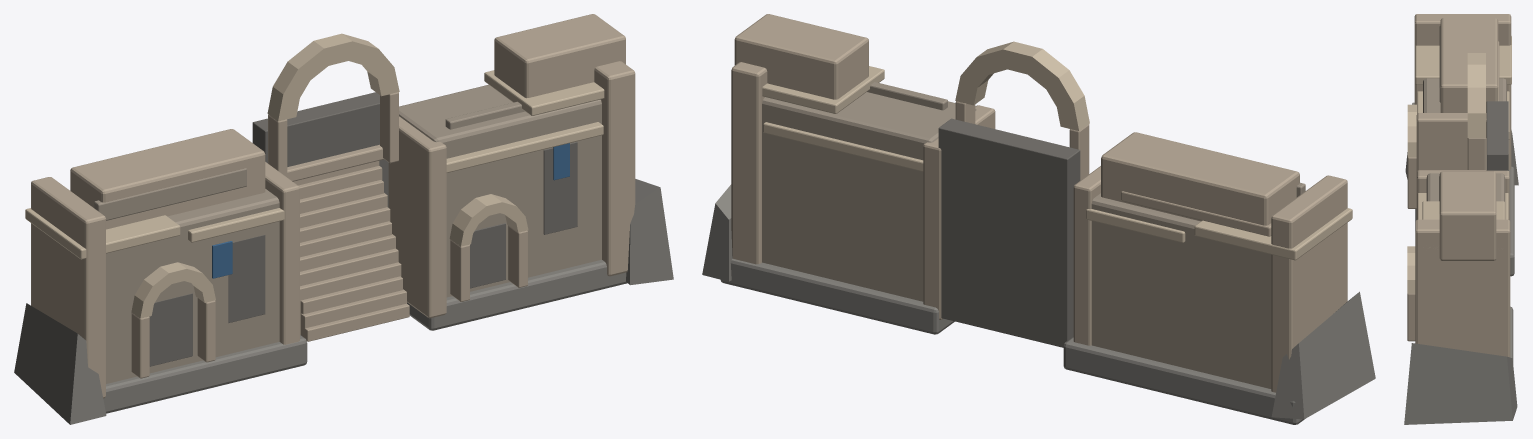
Rendered from Valoria_BastionToCityArchitecturalFrame_v1.glb.
3 renders of one model, left to right at view 1: azimuth 30°, elevation 25°; view 2: azimuth 150°, elevation 25°; view 3: azimuth 270°, elevation 25°, orthographic. The views are drawn at different scales.
Parts seen in each view (by area): view 1: East primary retaining mass, West primary retaining mass, West outer buttress, West upper setback, East stair buttress, East upper tower shoulder, East outer battered pier, West rock shoulder, West deep plinth, Central recessed back, East deep plinth, West stair buttress (+35 smaller); view 2: East primary retaining mass, Central recessed back, West primary retaining mass, West upper setback, West outer buttress, East upper tower shoulder, West rock shoulder, West deep plinth, East deep plinth, East outer battered pier, East stair buttress, West stair buttress (+13 smaller); view 3: East outer battered pier, East rock shoulder, East upper tower shoulder, West upper setback, West stair buttress, West outer buttress, Central recessed back, West broken cornice A, West primary retaining mass, East primary retaining mass, East stair buttress, West deep plinth (+18 smaller).
Part boxes in pixels (bbox=[...]): East primary retaining mass: bbox=[399, 84, 601, 297]; West primary retaining mass: bbox=[106, 189, 279, 383]; West outer buttress: bbox=[31, 177, 105, 398]; West upper setback: bbox=[70, 129, 265, 229]; East stair buttress: bbox=[388, 116, 446, 318]; East upper tower shoulder: bbox=[494, 14, 625, 98]; East outer battered pier: bbox=[594, 61, 635, 276]; West rock shoulder: bbox=[14, 303, 106, 424]; West deep plinth: bbox=[103, 335, 307, 413]; Central recessed back: bbox=[252, 92, 388, 207]; East deep plinth: bbox=[407, 259, 627, 330]; West stair buttress: bbox=[265, 162, 299, 344]; East primary retaining mass: bbox=[762, 92, 976, 301]; Central recessed back: bbox=[938, 118, 1080, 347]; West primary retaining mass: bbox=[1091, 193, 1271, 388]; West upper setback: bbox=[1101, 132, 1299, 225]; West outer buttress: bbox=[1271, 175, 1347, 392]; East upper tower shoulder: bbox=[734, 14, 868, 99]; West rock shoulder: bbox=[1271, 291, 1375, 419]; West deep plinth: bbox=[1063, 337, 1304, 424]; East deep plinth: bbox=[720, 258, 954, 334]; East outer battered pier: bbox=[731, 62, 767, 264]; East stair buttress: bbox=[923, 105, 995, 319]; West stair buttress: bbox=[1073, 166, 1100, 345]; East outer battered pier: bbox=[1415, 219, 1510, 357]; East rock shoulder: bbox=[1404, 343, 1517, 424]; East upper tower shoulder: bbox=[1439, 171, 1496, 260]; West upper setback: bbox=[1440, 18, 1498, 112]; West stair buttress: bbox=[1416, 113, 1486, 219]; West outer buttress: bbox=[1414, 14, 1511, 169]; Central recessed back: bbox=[1486, 101, 1508, 170]; West broken cornice A: bbox=[1415, 36, 1511, 84]; West primary retaining mass: bbox=[1423, 78, 1506, 112]; East primary retaining mass: bbox=[1426, 173, 1505, 219]; East stair buttress: bbox=[1417, 170, 1509, 219]; West deep plinth: bbox=[1415, 166, 1514, 276].
Size of the model in its own units: 17.1 by 7.7 by 3.28.
